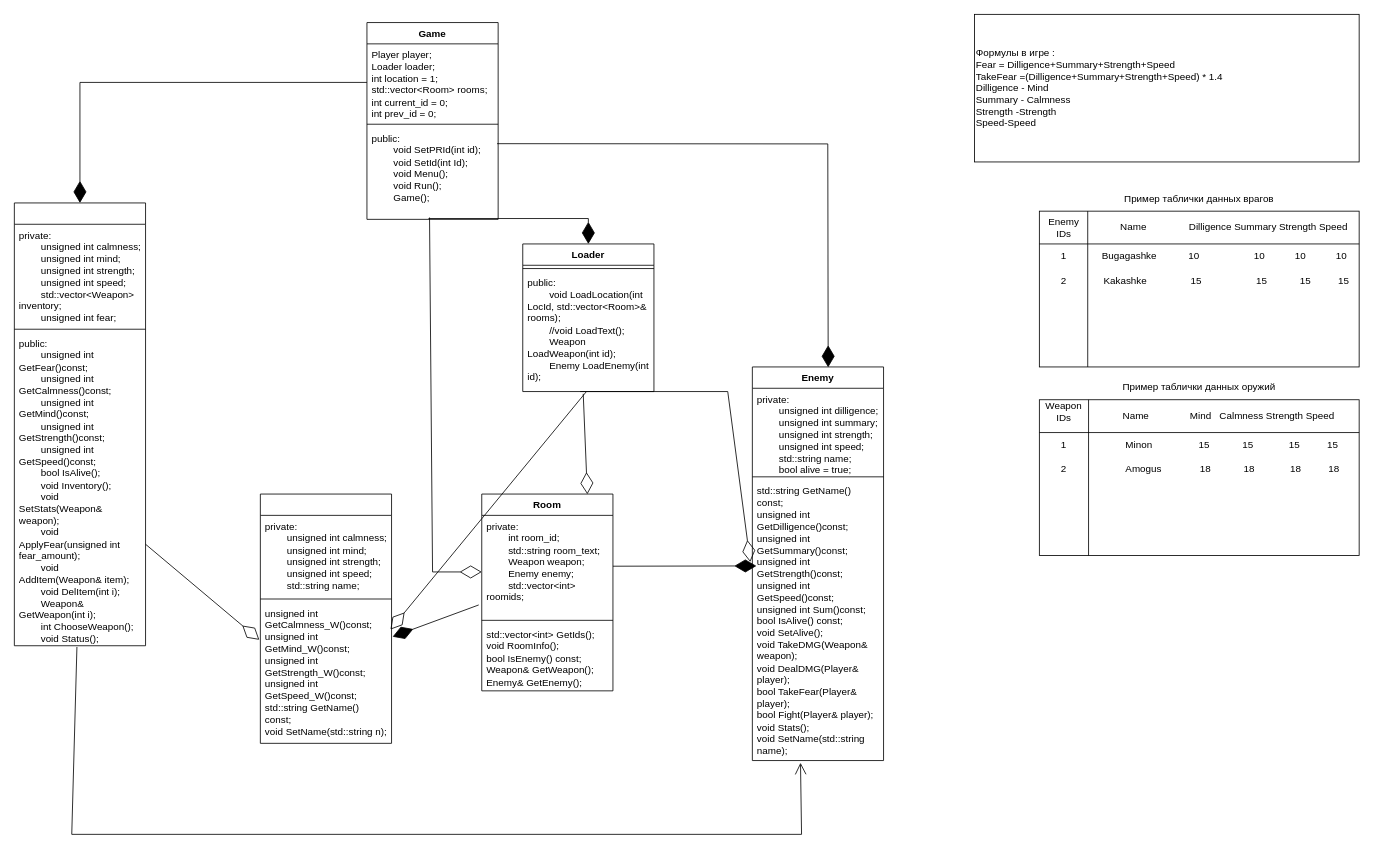
Some shapes in this 1377 by 860 pixel diagram are drawn without their labels. Each missing label, with the box of its shape:
Player: (14, 202, 146, 646)
Weapon: (260, 493, 392, 743)
